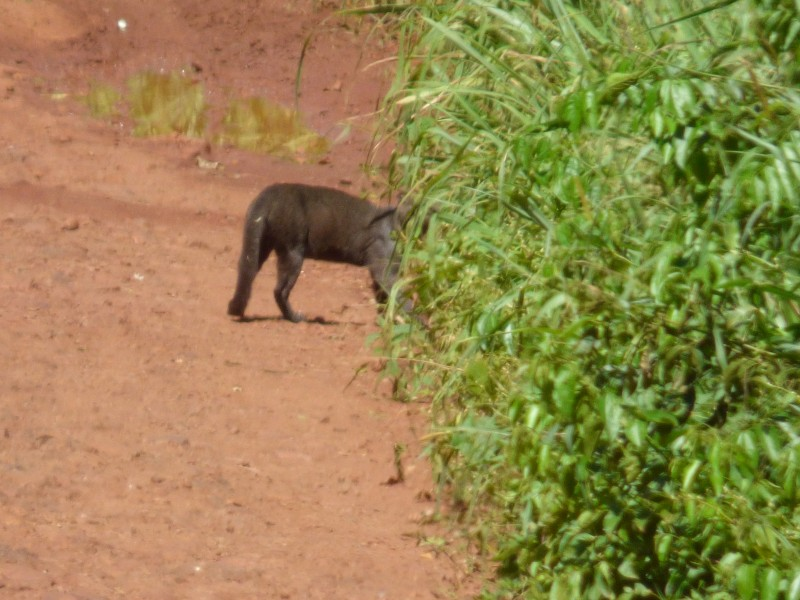Jaguarundi: (224, 176, 434, 333)
